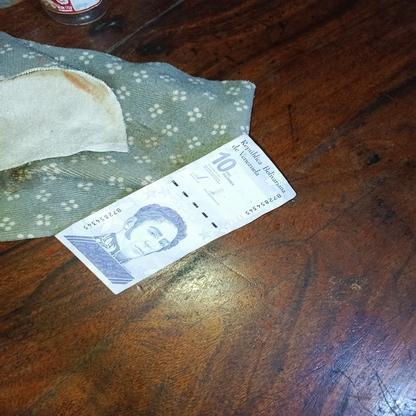ten-front-vef: (55, 134, 297, 296)
